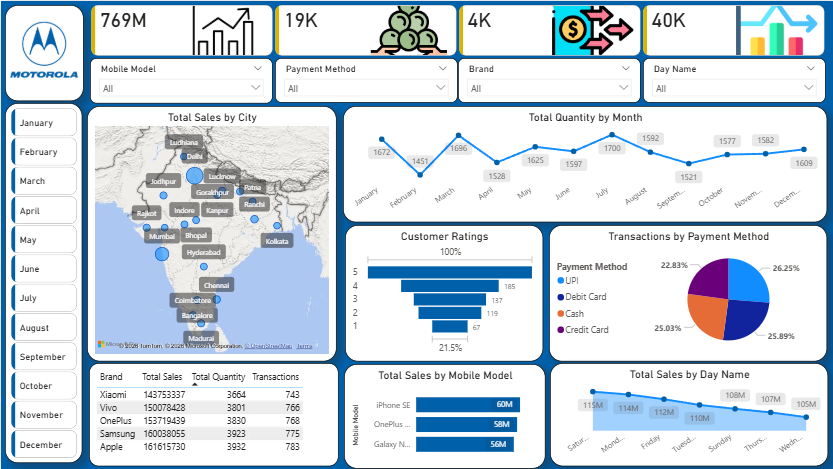

The dashboard page shown, as its layout file describes it:
{"tool":"powerbi","page":{"name":"Page 1","canvas":[1280,720],"ordinal":0},"visuals":[{"type":"shape","box":[5.5,6.9,120.8,148.2],"z":0},{"type":"image","box":[9.6,16.5,113.9,116.6],"z":1000},{"type":"shape","box":[6.9,156.4,119.4,554.4],"z":2000},{"type":"advancedSlicerVisual","fields":{"Values":["Sales_Data.Date.Variation.Date Hierarchy.Month"]},"box":[11,160.5,111.1,548.9],"z":3000},{"type":"cardVisual","fields":{"Data":["Sales_Data.Total Sales","Sales_Data.Total Quantity","Sales_Data.Transactions","Sales_Data.Average"]},"box":[134,5.6,1140.1,83.7],"z":4000},{"type":"map","fields":{"Category":["Sales_Data.City"],"Size":["Sales_Data.Total Sales"]},"box":[132.9,160.8,384.1,393.1],"z":5000},{"type":"lineChart","fields":{"Y":["Sales_Data.Total Quantity"],"Category":["Sales_Data.Date.Variation.Date Hierarchy.Month","Sales_Data.Date.Variation.Date Hierarchy.Day"]},"box":[525.9,160.8,744.8,178.7],"z":6000},{"type":"clusteredBarChart","fields":{"Category":["Sales_Data.Mobile Model"],"Y":["Sales_Data.Total Sales"]},"box":[528.3,558.5,310.1,160.5],"z":7000},{"type":"pieChart","fields":{"Category":["Sales_Data.Payment Method"],"Y":["Sales_Data.Transactions"]},"box":[842.5,344.4,428.1,209.9],"z":8000},{"type":"funnel","title":"Customer Ratings","fields":{"Category":["Sales_Data.Customer Ratings"],"Y":["CountNonNull(Sales_Data.Customer Ratings)"]},"box":[529.7,344.4,304.6,209.9],"z":9000},{"type":"areaChart","fields":{"Category":["Sales_Data.Day Name"],"Y":["Sales_Data.Total Sales"]},"box":[845.3,557.1,428.1,159.2],"z":10000},{"type":"tableEx","fields":{"Values":["Sales_Data.Brand","Sales_Data.Total Sales","Sales_Data.Total Quantity","Sales_Data.Transactions"]},"box":[135.8,557.1,384.2,159.2],"z":11000},{"type":"slicer","fields":{"Values":["Sales_Data.Mobile Model"]},"box":[136.2,87.1,281.4,70.3],"z":12000},{"type":"slicer","fields":{"Values":["Sales_Data.Payment Method"]},"box":[421,87.1,281.4,69.2],"z":13000},{"type":"slicer","fields":{"Values":["Sales_Data.Brand"]},"box":[703.5,87.1,281.4,69.2],"z":14000},{"type":"slicer","fields":{"Values":["Sales_Data.Day Name"]},"box":[988.2,87.1,281.4,69.2],"z":15000}]}

Visuals, with their boxes in screenshot pixels (x1, y1, x2, y2), scaled from the page's 1280x720 canvas onto the 833x469 screenshot:
shape: 4,4,82,101
image: 6,11,80,87
shape: 4,102,82,463
advancedSlicerVisual - Sales_Data.Date.Variation.Date Hierarchy.Month: 7,105,79,462
cardVisual - Sales_Data.Total Sales x Sales_Data.Total Quantity: 87,4,829,58
map - Sales_Data.City x Sales_Data.Total Sales: 86,105,336,361
lineChart - Sales_Data.Total Quantity x Sales_Data.Date.Variation.Date Hierarchy.Month: 342,105,827,221
clusteredBarChart - Sales_Data.Mobile Model x Sales_Data.Total Sales: 344,364,546,468
pieChart - Sales_Data.Payment Method x Sales_Data.Transactions: 548,224,827,361
"Customer Ratings" funnel: 345,224,543,361
areaChart - Sales_Data.Day Name x Sales_Data.Total Sales: 550,363,829,467
tableEx - Sales_Data.Brand x Sales_Data.Total Sales: 88,363,338,467
slicer - Sales_Data.Mobile Model: 89,57,272,103
slicer - Sales_Data.Payment Method: 274,57,457,102
slicer - Sales_Data.Brand: 458,57,641,102
slicer - Sales_Data.Day Name: 643,57,826,102
